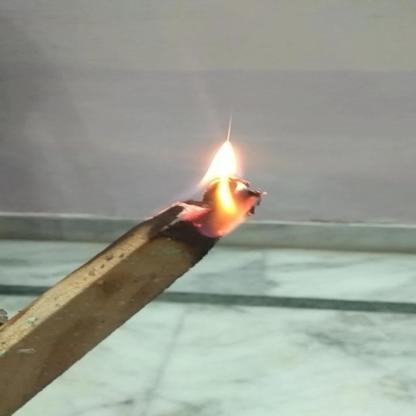fire: (174, 130, 269, 236)
